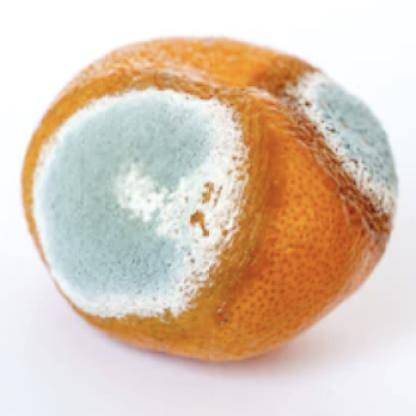rotten: (25, 40, 394, 362)
